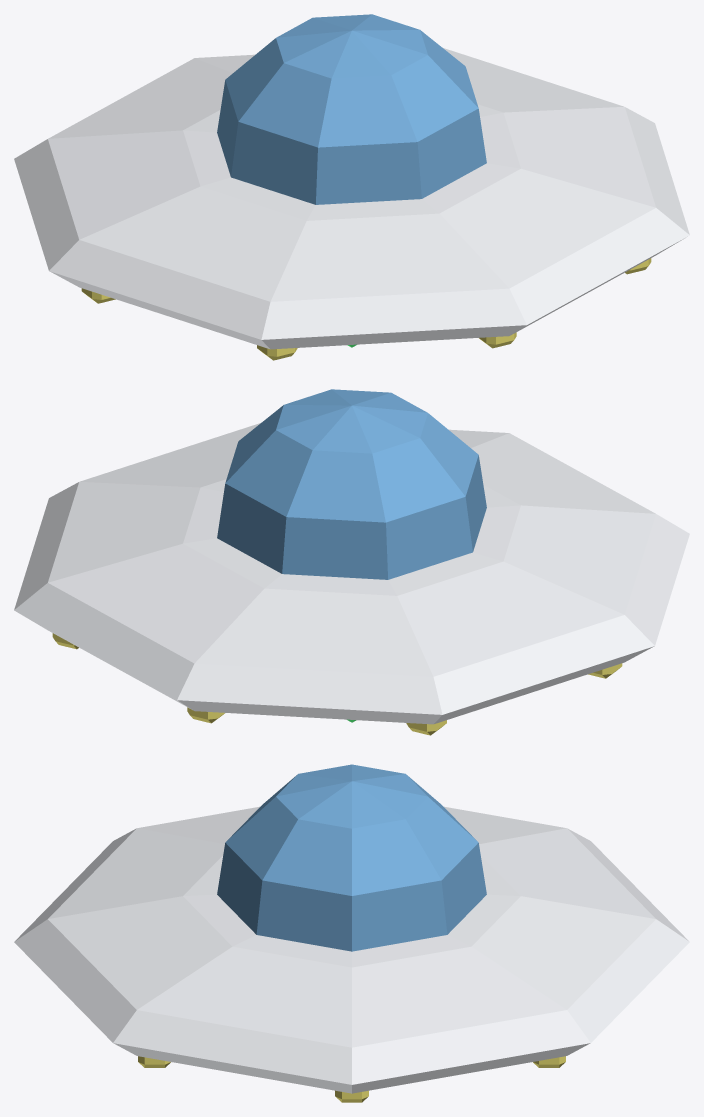
File: UFO.fbx
3 renders of one model, top to bottom at view 1: azimuth 30°, elevation 25°; view 2: azimuth 150°, elevation 25°; view 3: azimuth 270°, elevation 25°, orthographic. The views are drawn at different scales.
Visible parts, largest first — view 1: UFO, UFO_Ring; view 2: UFO, UFO_Ring; view 3: UFO, UFO_Ring.
Boxes of the visible parts, x1,y1,x2,y2 form: UFO: (14, 14, 689, 349); UFO_Ring: (81, 258, 651, 360); UFO: (14, 389, 689, 724); UFO_Ring: (52, 633, 622, 735); UFO: (14, 764, 689, 1093); UFO_Ring: (138, 1056, 565, 1102).
Size of the model in its own units: 8 by 4 by 8.
Materials: 1 (1 with a texture image).
